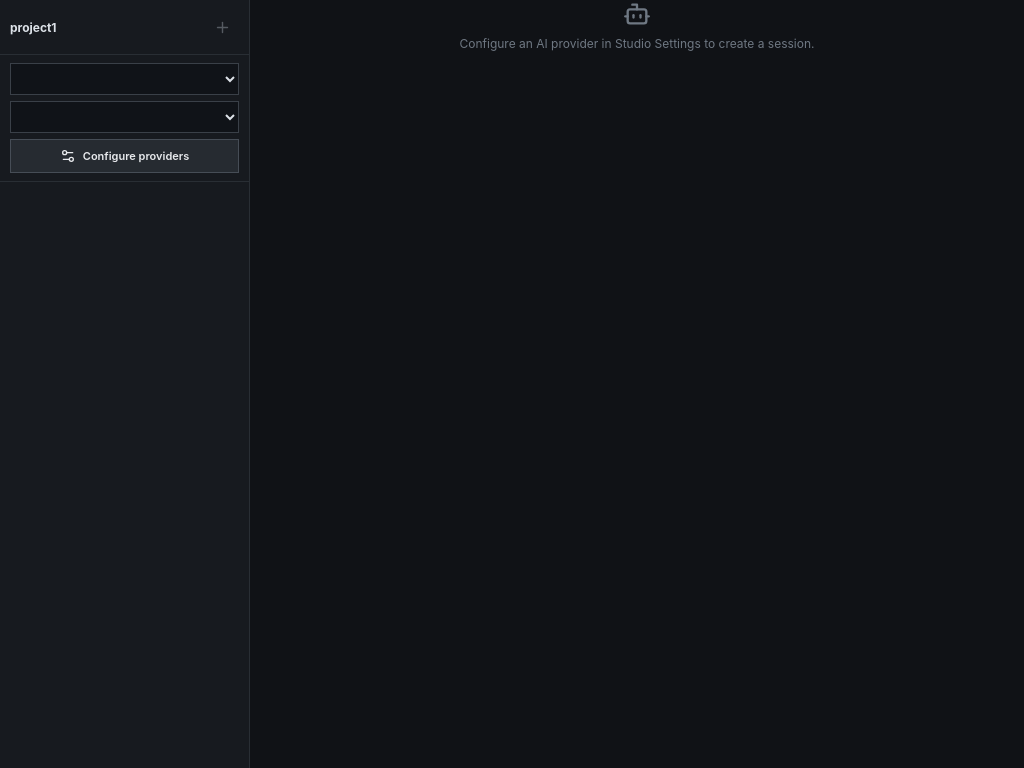
creates a session after delayed projects finish loading
This screenshot has width=1024, height=768.
Click the button named "New agent session". click: (222, 27)
box: [205,10,239,44]
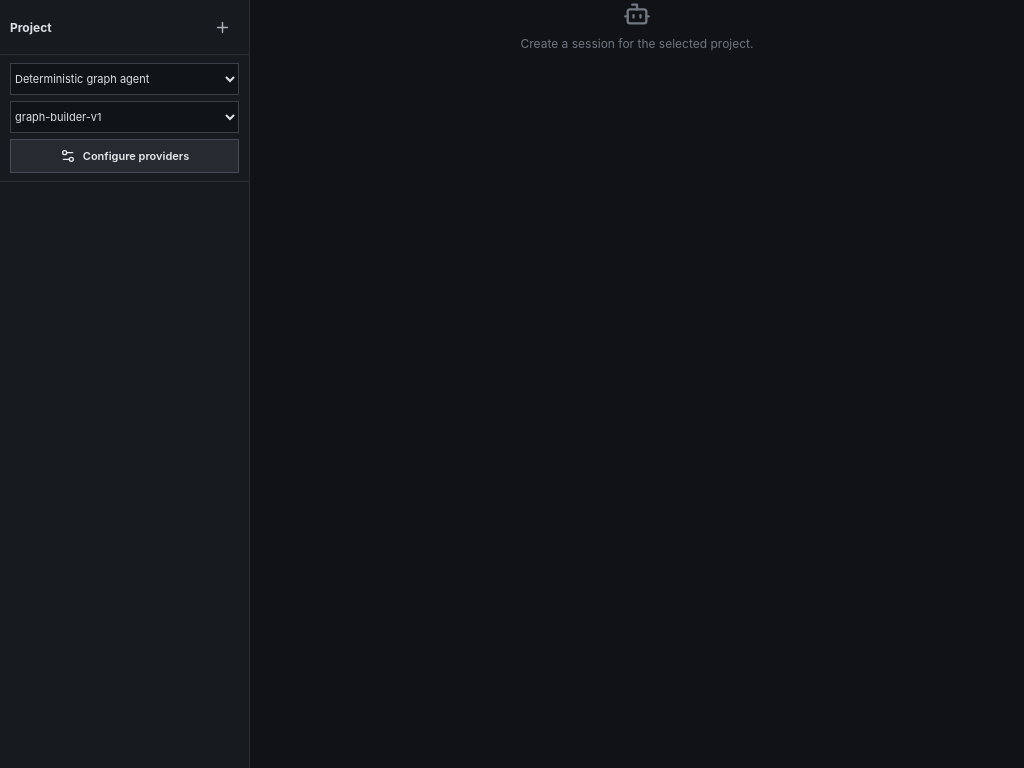
Click the button named "New agent session". click: (222, 27)
box: [205,10,239,44]
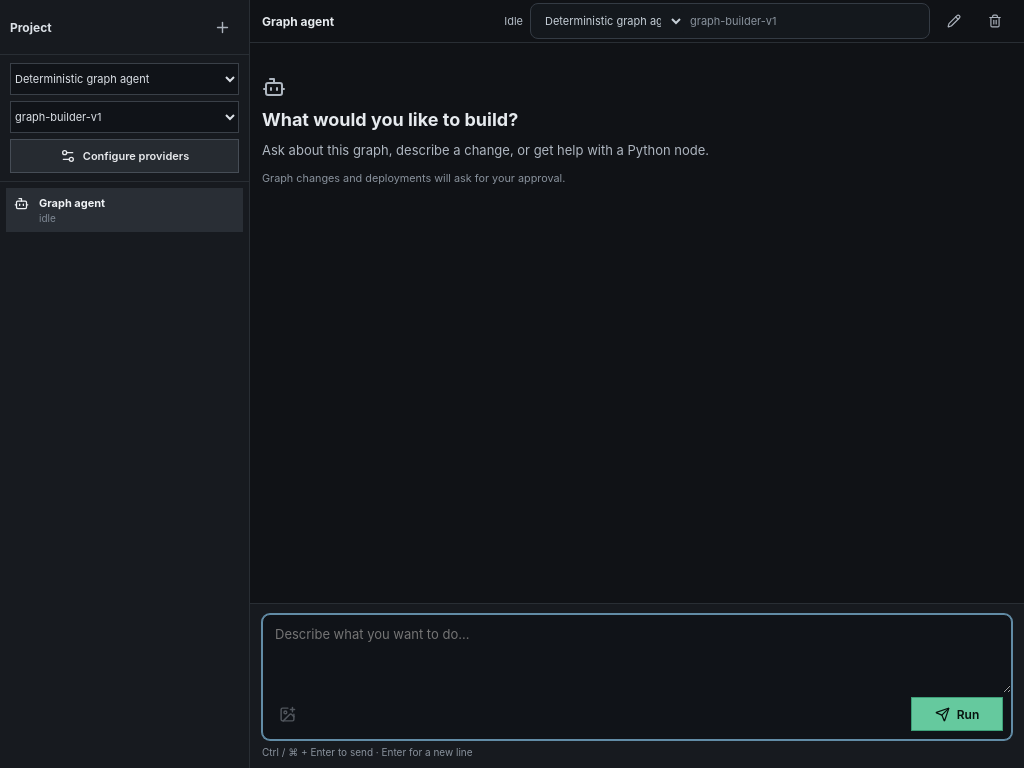
Expected: the text box named "Agent prompt" is shown, [263,614,1011,693]
